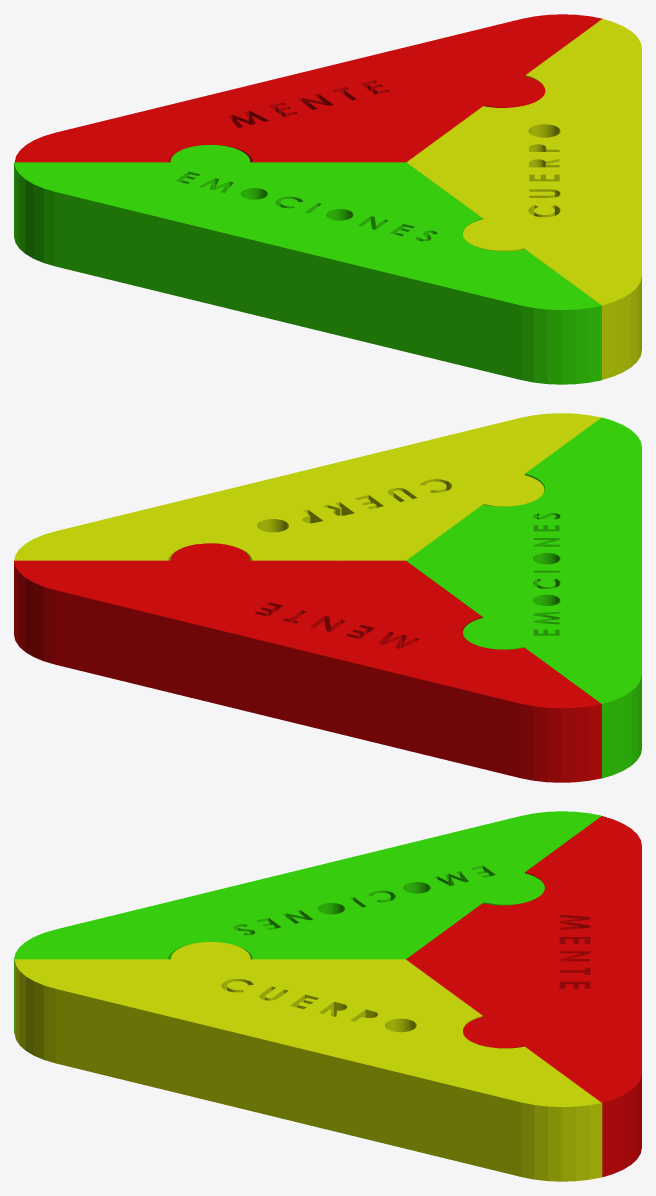
File: integra.gltf
The picture shows the model from 3 angles, top to bottom: view 1: azimuth 30°, elevation 25°; view 2: azimuth 150°, elevation 25°; view 3: azimuth 270°, elevation 25°; orthographic projection.
Parts seen in each view (by area): view 1: triangulo integra.002; view 2: triangulo integra.002; view 3: triangulo integra.002.
Boxes of the visible parts, x1,y1,x2,y2 form: triangulo integra.002: [14, 14, 641, 384]; triangulo integra.002: [14, 413, 641, 782]; triangulo integra.002: [14, 811, 641, 1181].
Size of the model in its own units: 56.49 by 6.64 by 50.68.
